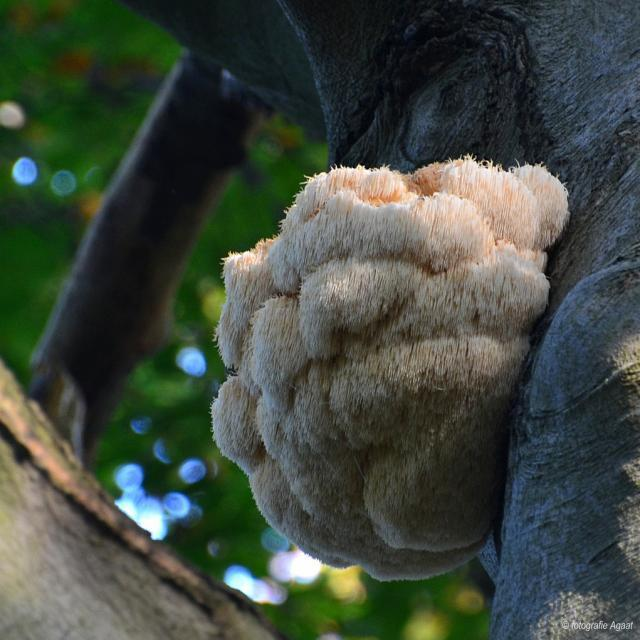Hericium erinaceus: (217, 157, 566, 580)
